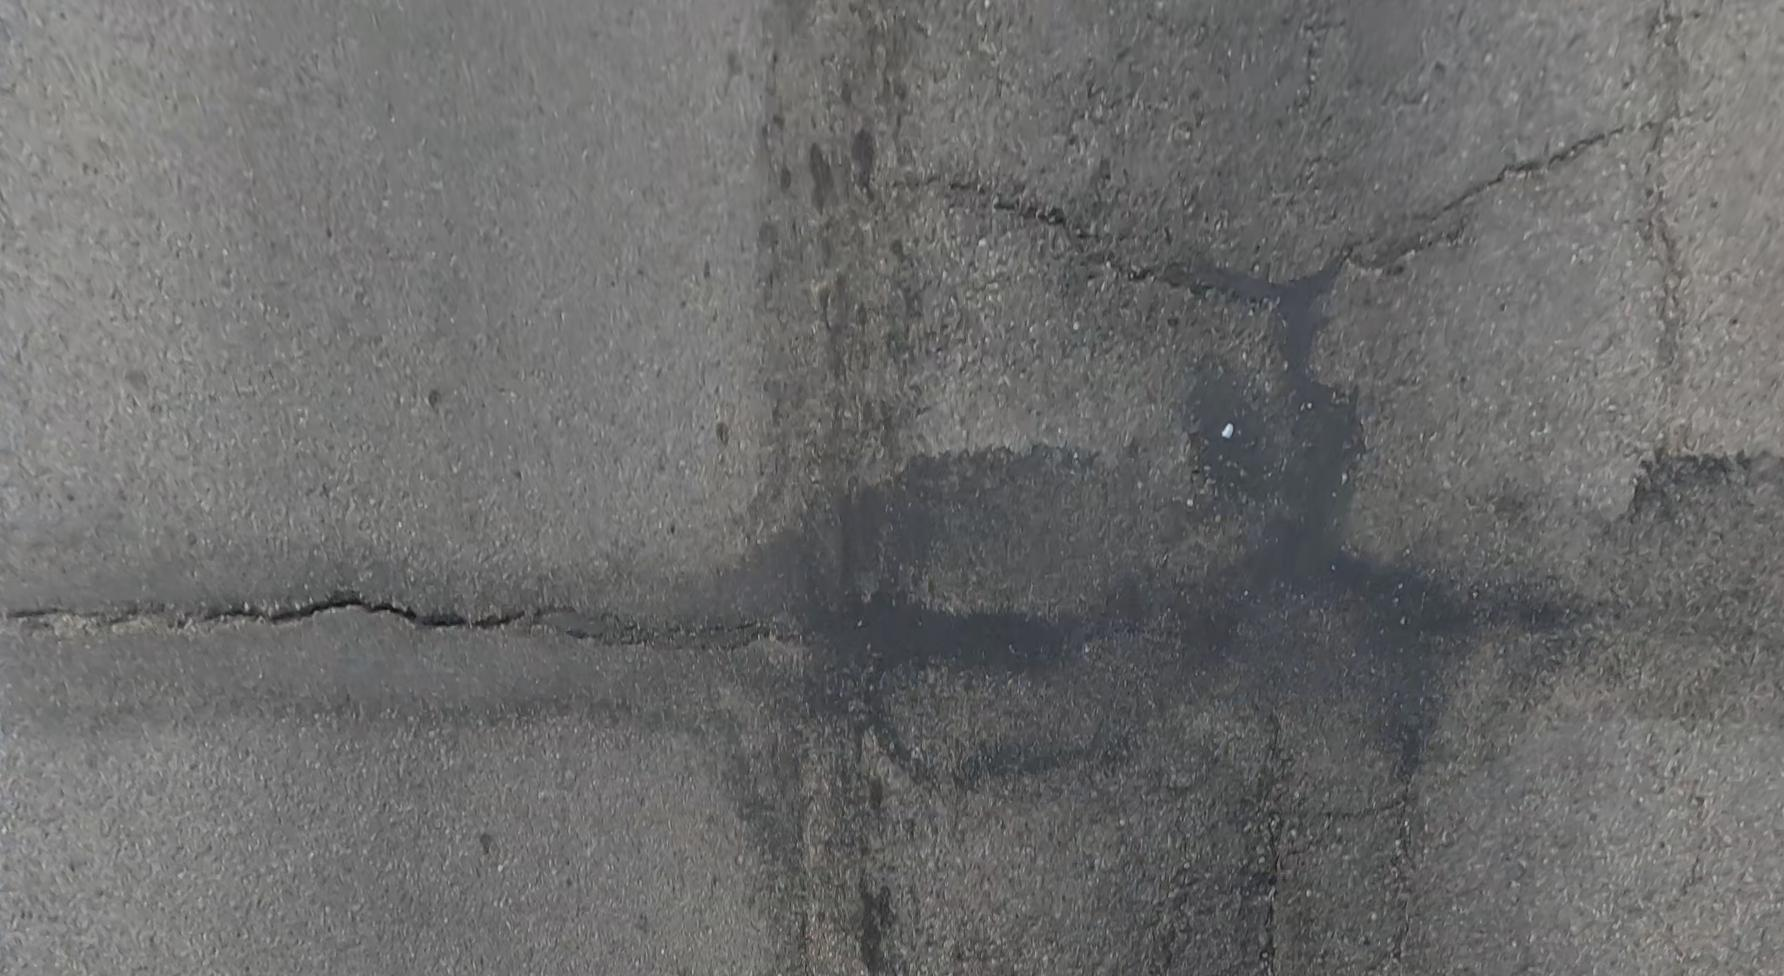pothole_patch_good: (766, 309, 1782, 798)
pothole_patch_poor: (0, 555, 772, 733)
